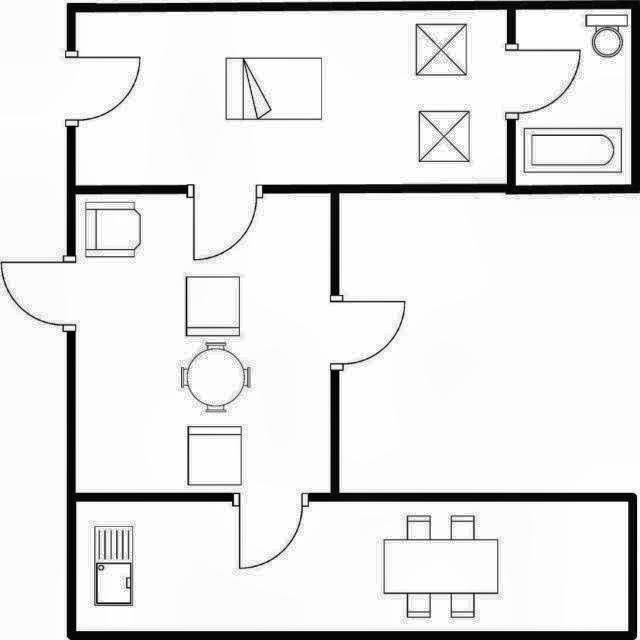room: (76, 195, 331, 492), (76, 10, 508, 184), (76, 502, 627, 631), (516, 10, 630, 184)
